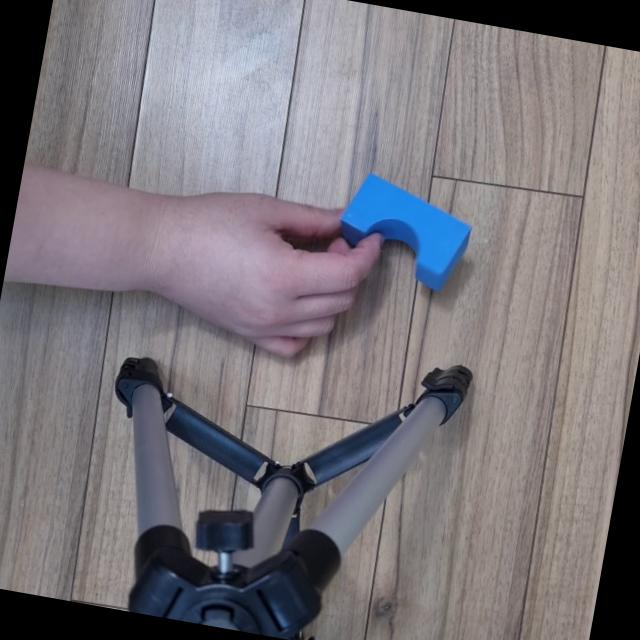block: (328, 170, 487, 294)
hand: (116, 126, 416, 394)
